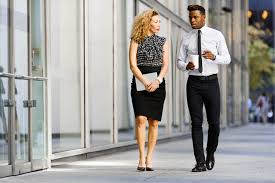Bad: (129, 5, 231, 172)
